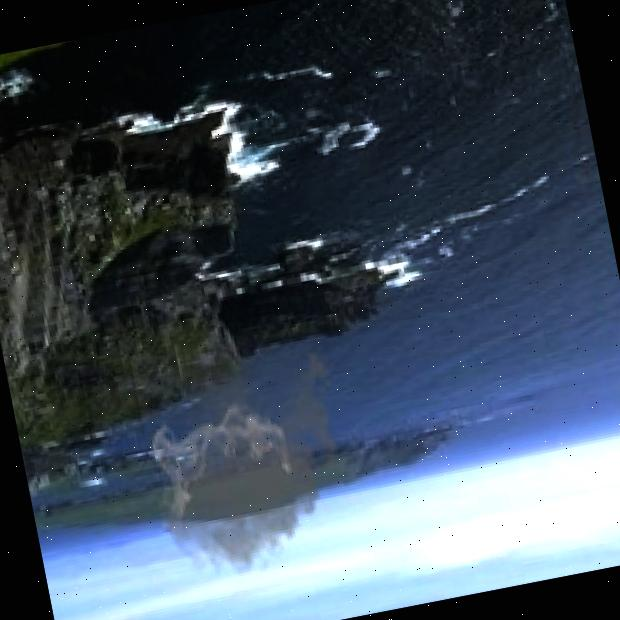smoke: (127, 318, 373, 597)
